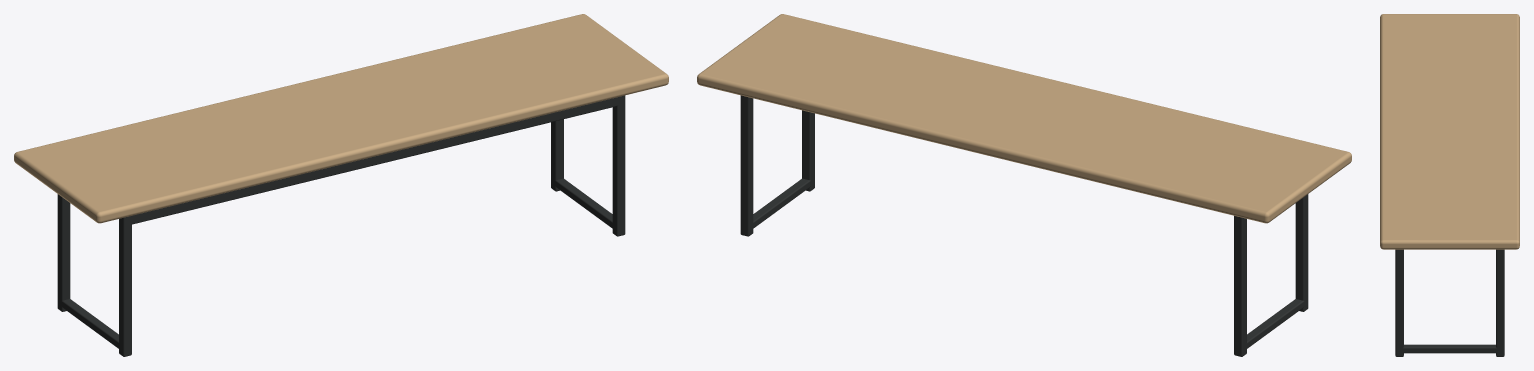
Rendered from desk.glb.
3 renders of one model, left to right at view 1: azimuth 30°, elevation 25°; view 2: azimuth 150°, elevation 25°; view 3: azimuth 270°, elevation 25°, orthographic. The views are drawn at different scales.
Bounding box in the file's own units: 2.9 × 0.77 × 0.75.
